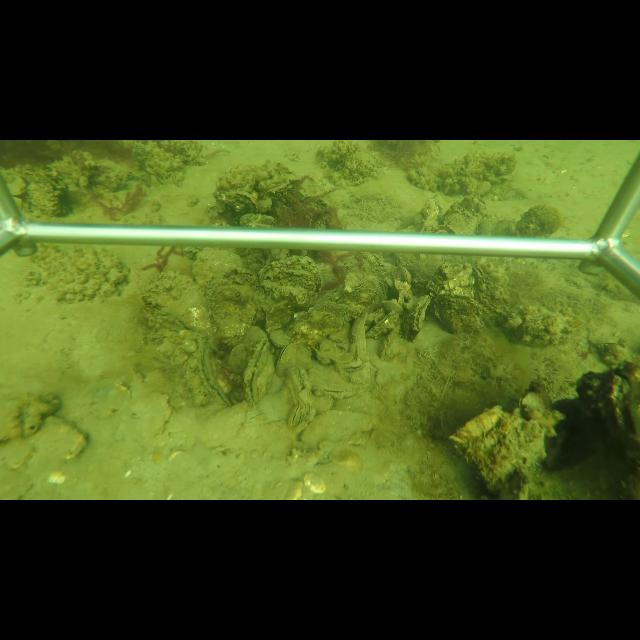Oyster-Closed: (192, 247, 259, 347), (139, 270, 216, 338), (256, 256, 325, 311), (288, 298, 366, 342), (196, 340, 236, 412), (433, 293, 489, 336), (242, 339, 274, 410), (472, 263, 512, 317), (308, 369, 360, 401), (404, 293, 431, 343), (258, 175, 305, 201), (365, 310, 401, 339), (218, 190, 260, 212), (275, 344, 297, 375), (286, 404, 302, 429)
Oyster-Open: (341, 359, 363, 374), (430, 222, 458, 232)
